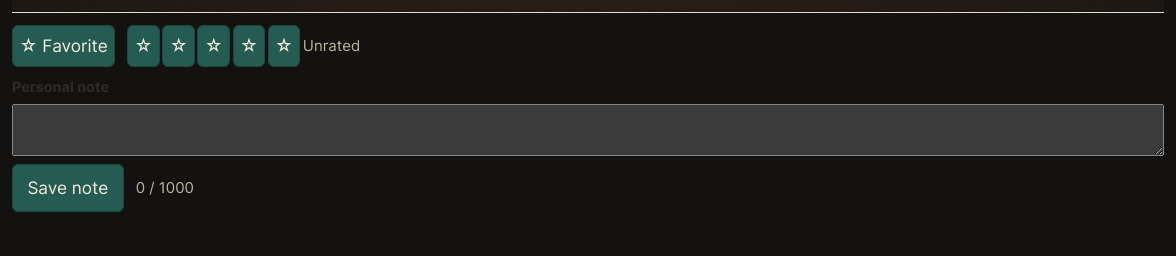
it: CollectionItemPersonalControls › keeps the note draft when a note save fails (no false saved state)
Type "draft I care about" into the text box labelled "Personal note" at (588, 130), box left=12, top=104, right=1164, bottom=156
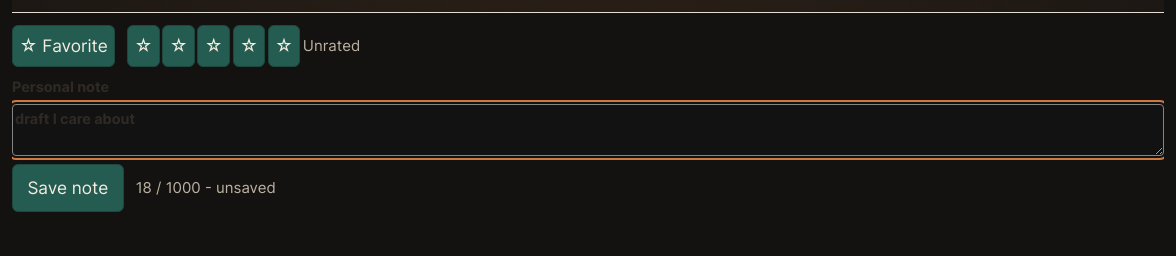
Click the button "Save note" at (68, 188), box left=12, top=164, right=124, bottom=212
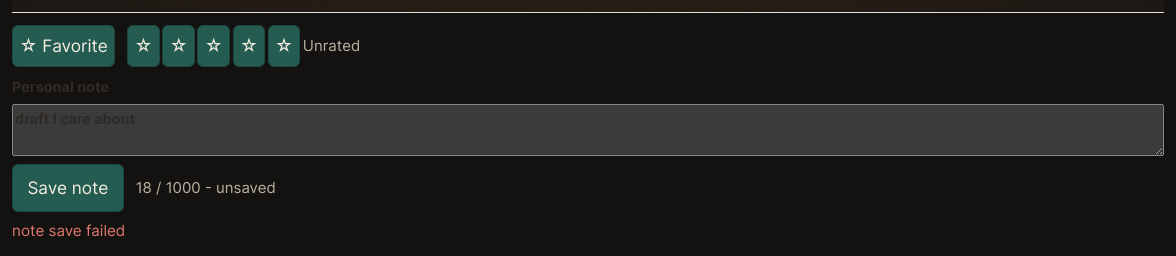
Expected: the text "18 / 1000 - unsaved" is shown, left=136, top=177, right=276, bottom=199
Expected: the message "note save failed" is shown, left=12, top=221, right=125, bottom=240
